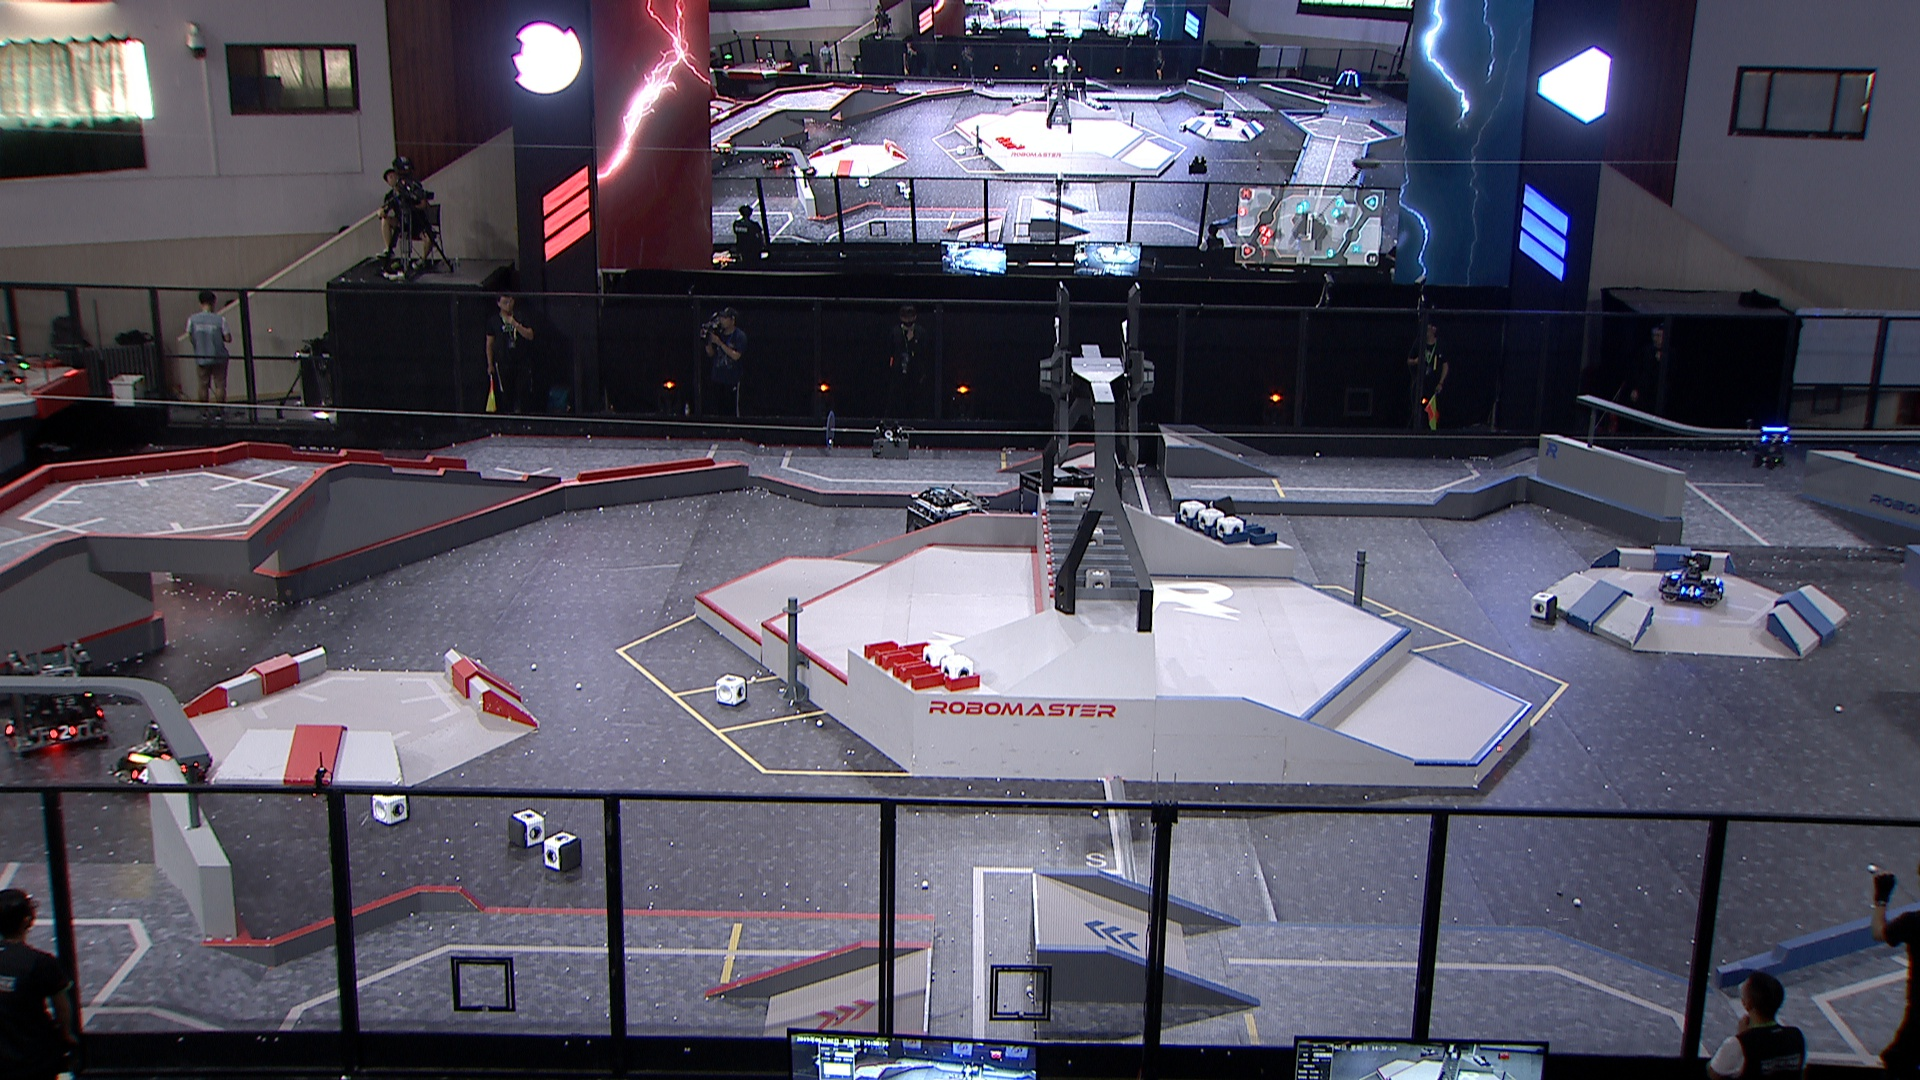armor: (49, 721, 78, 741), (1760, 433, 1792, 447), (1680, 583, 1704, 600), (131, 767, 150, 785), (1667, 568, 1684, 582)
car: (3, 645, 109, 752), (107, 716, 214, 793), (903, 483, 994, 567), (1015, 463, 1098, 550), (1659, 551, 1726, 607)
ignore: (757, 138, 793, 171), (1332, 69, 1365, 96), (713, 140, 738, 166), (1215, 111, 1233, 128), (1234, 74, 1249, 91)
watcher: (1751, 425, 1793, 471)
